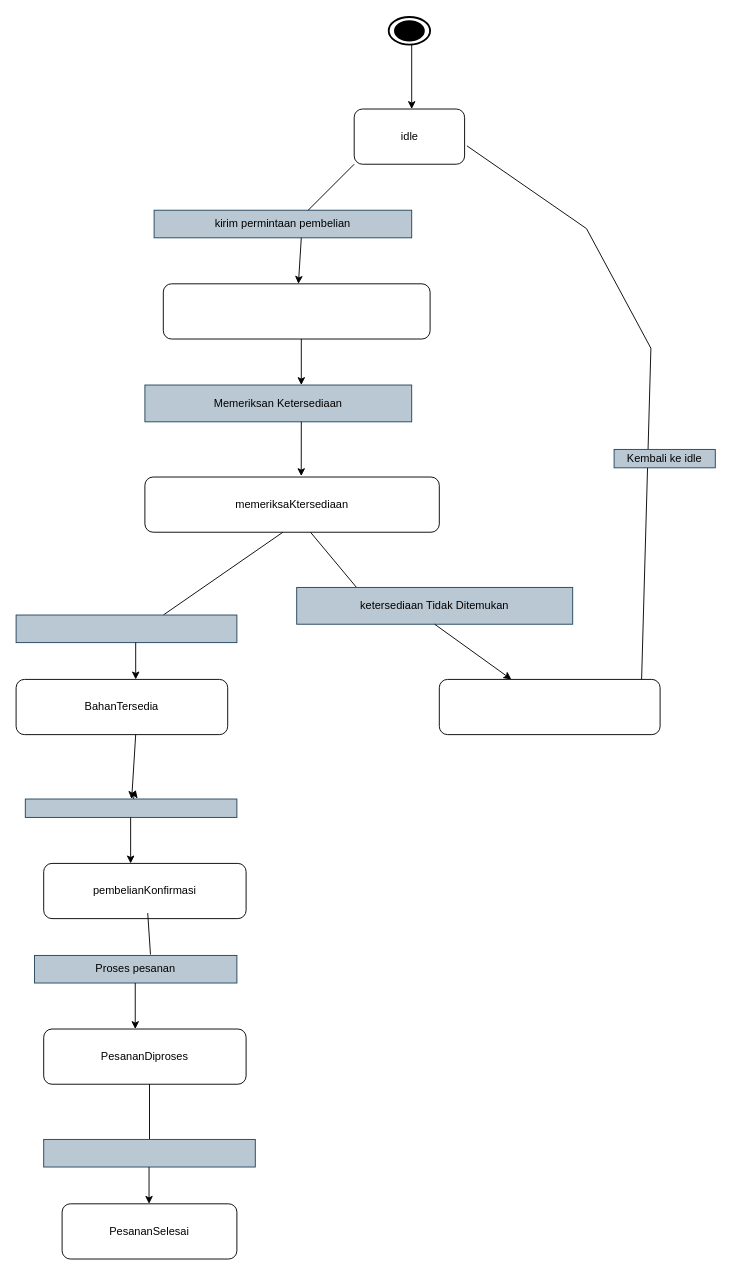
Some shapes in this 731 by 1275 pixel diagram are drawn without their labels. Here are the shapes that lost their labels. From the top down, the centre of each, then its label:
point 296,311: permintaanDikirim
point 126,628: ketersediaan ditemukan
point 549,706: BahanTidakTersedia
point 130,807: konfirmasi pembelian
point 149,1152: barang diterima
